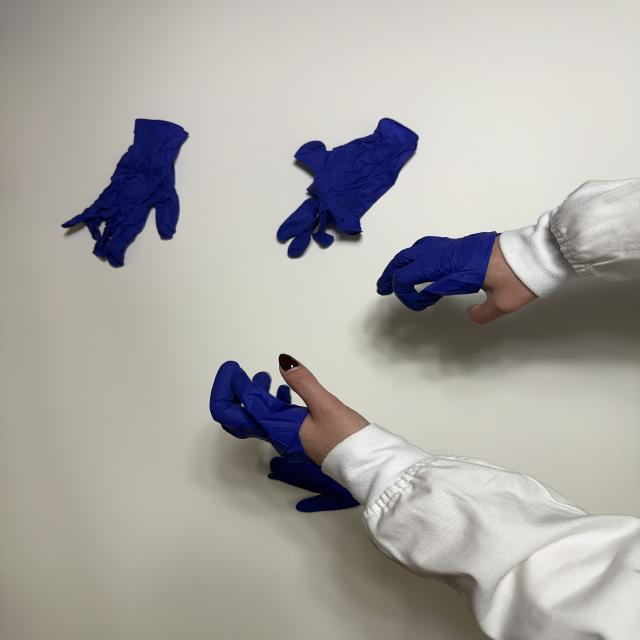glove_partial: (210, 351, 376, 472), (373, 232, 540, 327)
